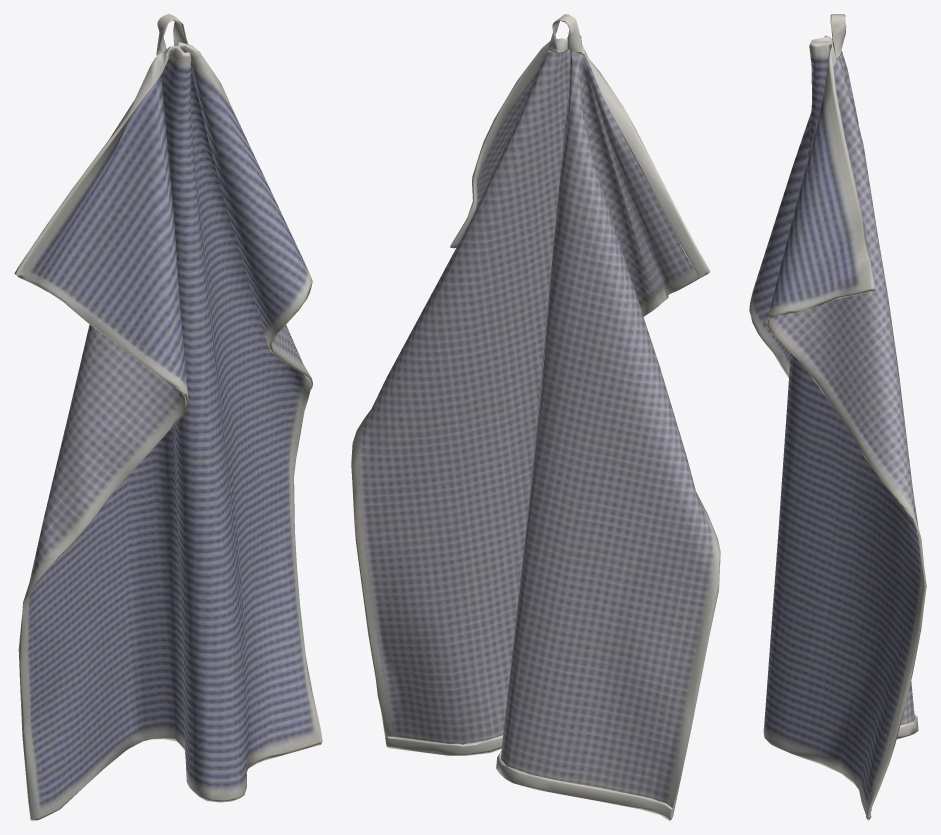
3 renders of one model, left to right at view 1: azimuth 30°, elevation 25°; view 2: azimuth 150°, elevation 25°; view 3: azimuth 270°, elevation 25°, orthographic. The views are drawn at different scales.
Parts seen in each view (by area): view 1: ASY_ART_80618003_S01_NV01; view 2: ASY_ART_80618003_S01_NV01; view 3: ASY_ART_80618003_S01_NV01.
Part boxes in pixels (left/top/right/bottom): ASY_ART_80618003_S01_NV01: left=14, top=14, right=322, bottom=820; ASY_ART_80618003_S01_NV01: left=351, top=14, right=720, bottom=820; ASY_ART_80618003_S01_NV01: left=749, top=14, right=926, bottom=820.
Size of the model in its own units: 0.29 by 0.6577 by 0.144.
Materials: 1 (1 with a texture image).
